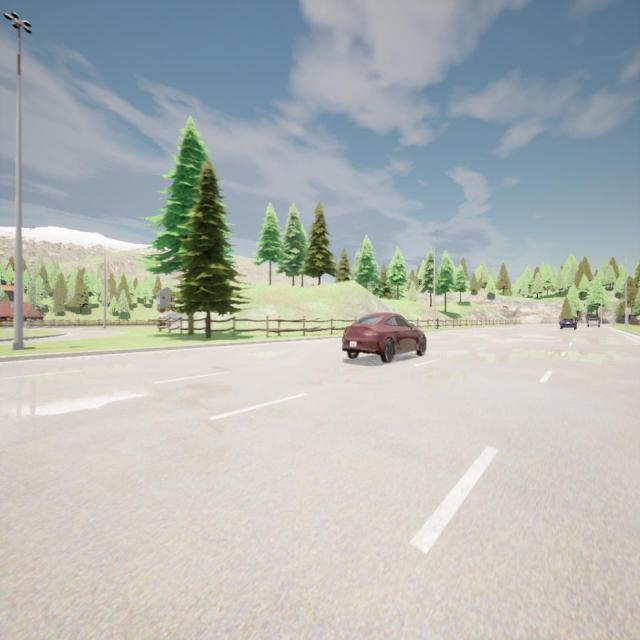Traffic_Signs: (624, 307, 632, 316)
Vehicle: (342, 312, 426, 362), (559, 316, 577, 331), (587, 316, 599, 329)
